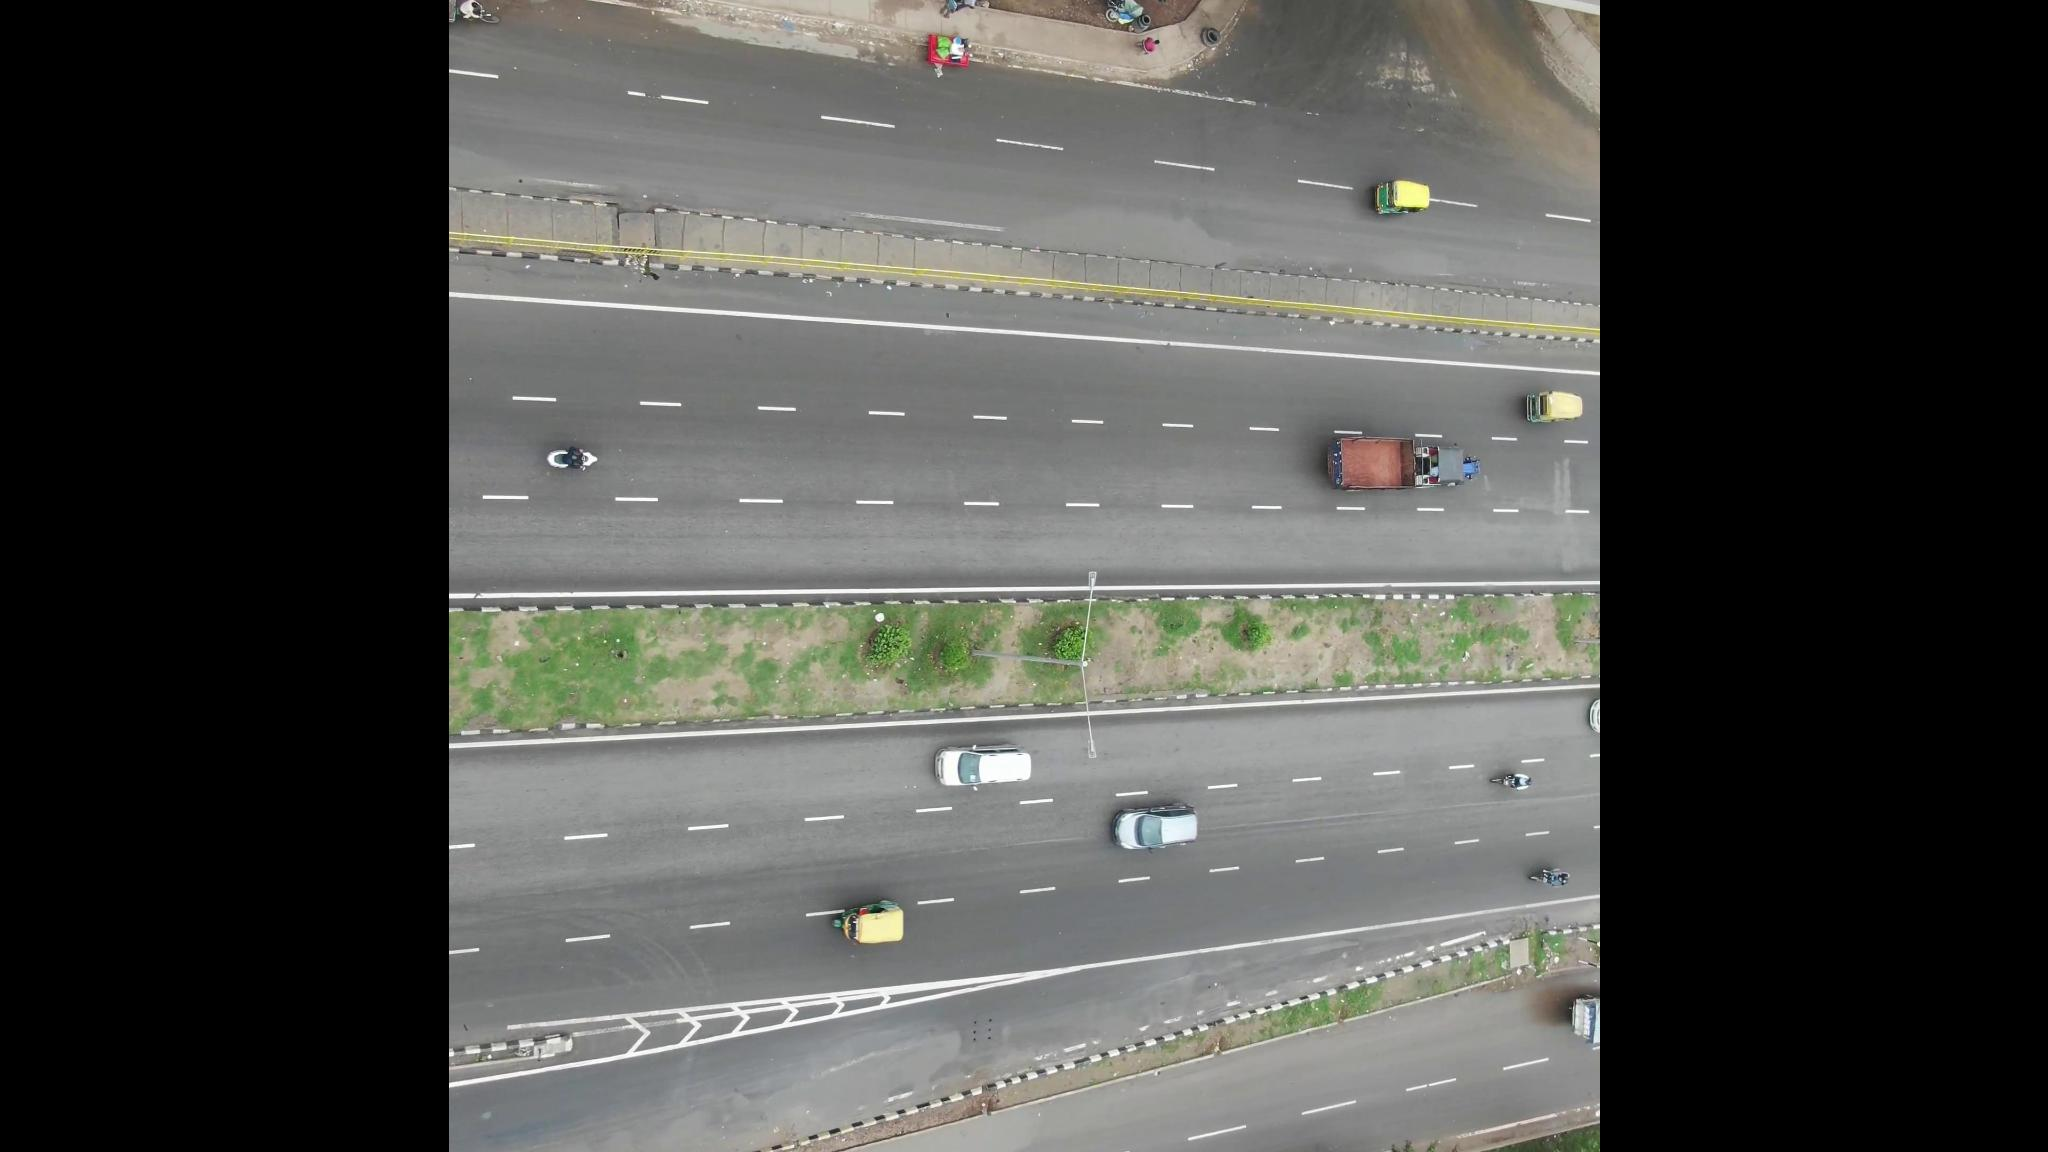Potholes: (1483, 435, 1584, 551)
Waterlogging: (654, 1101, 1011, 1152)
